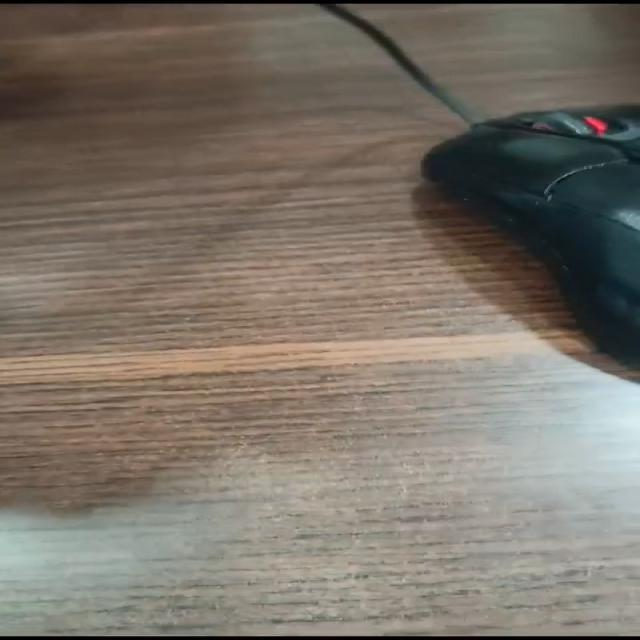Mouse: (320, 56, 640, 400)
